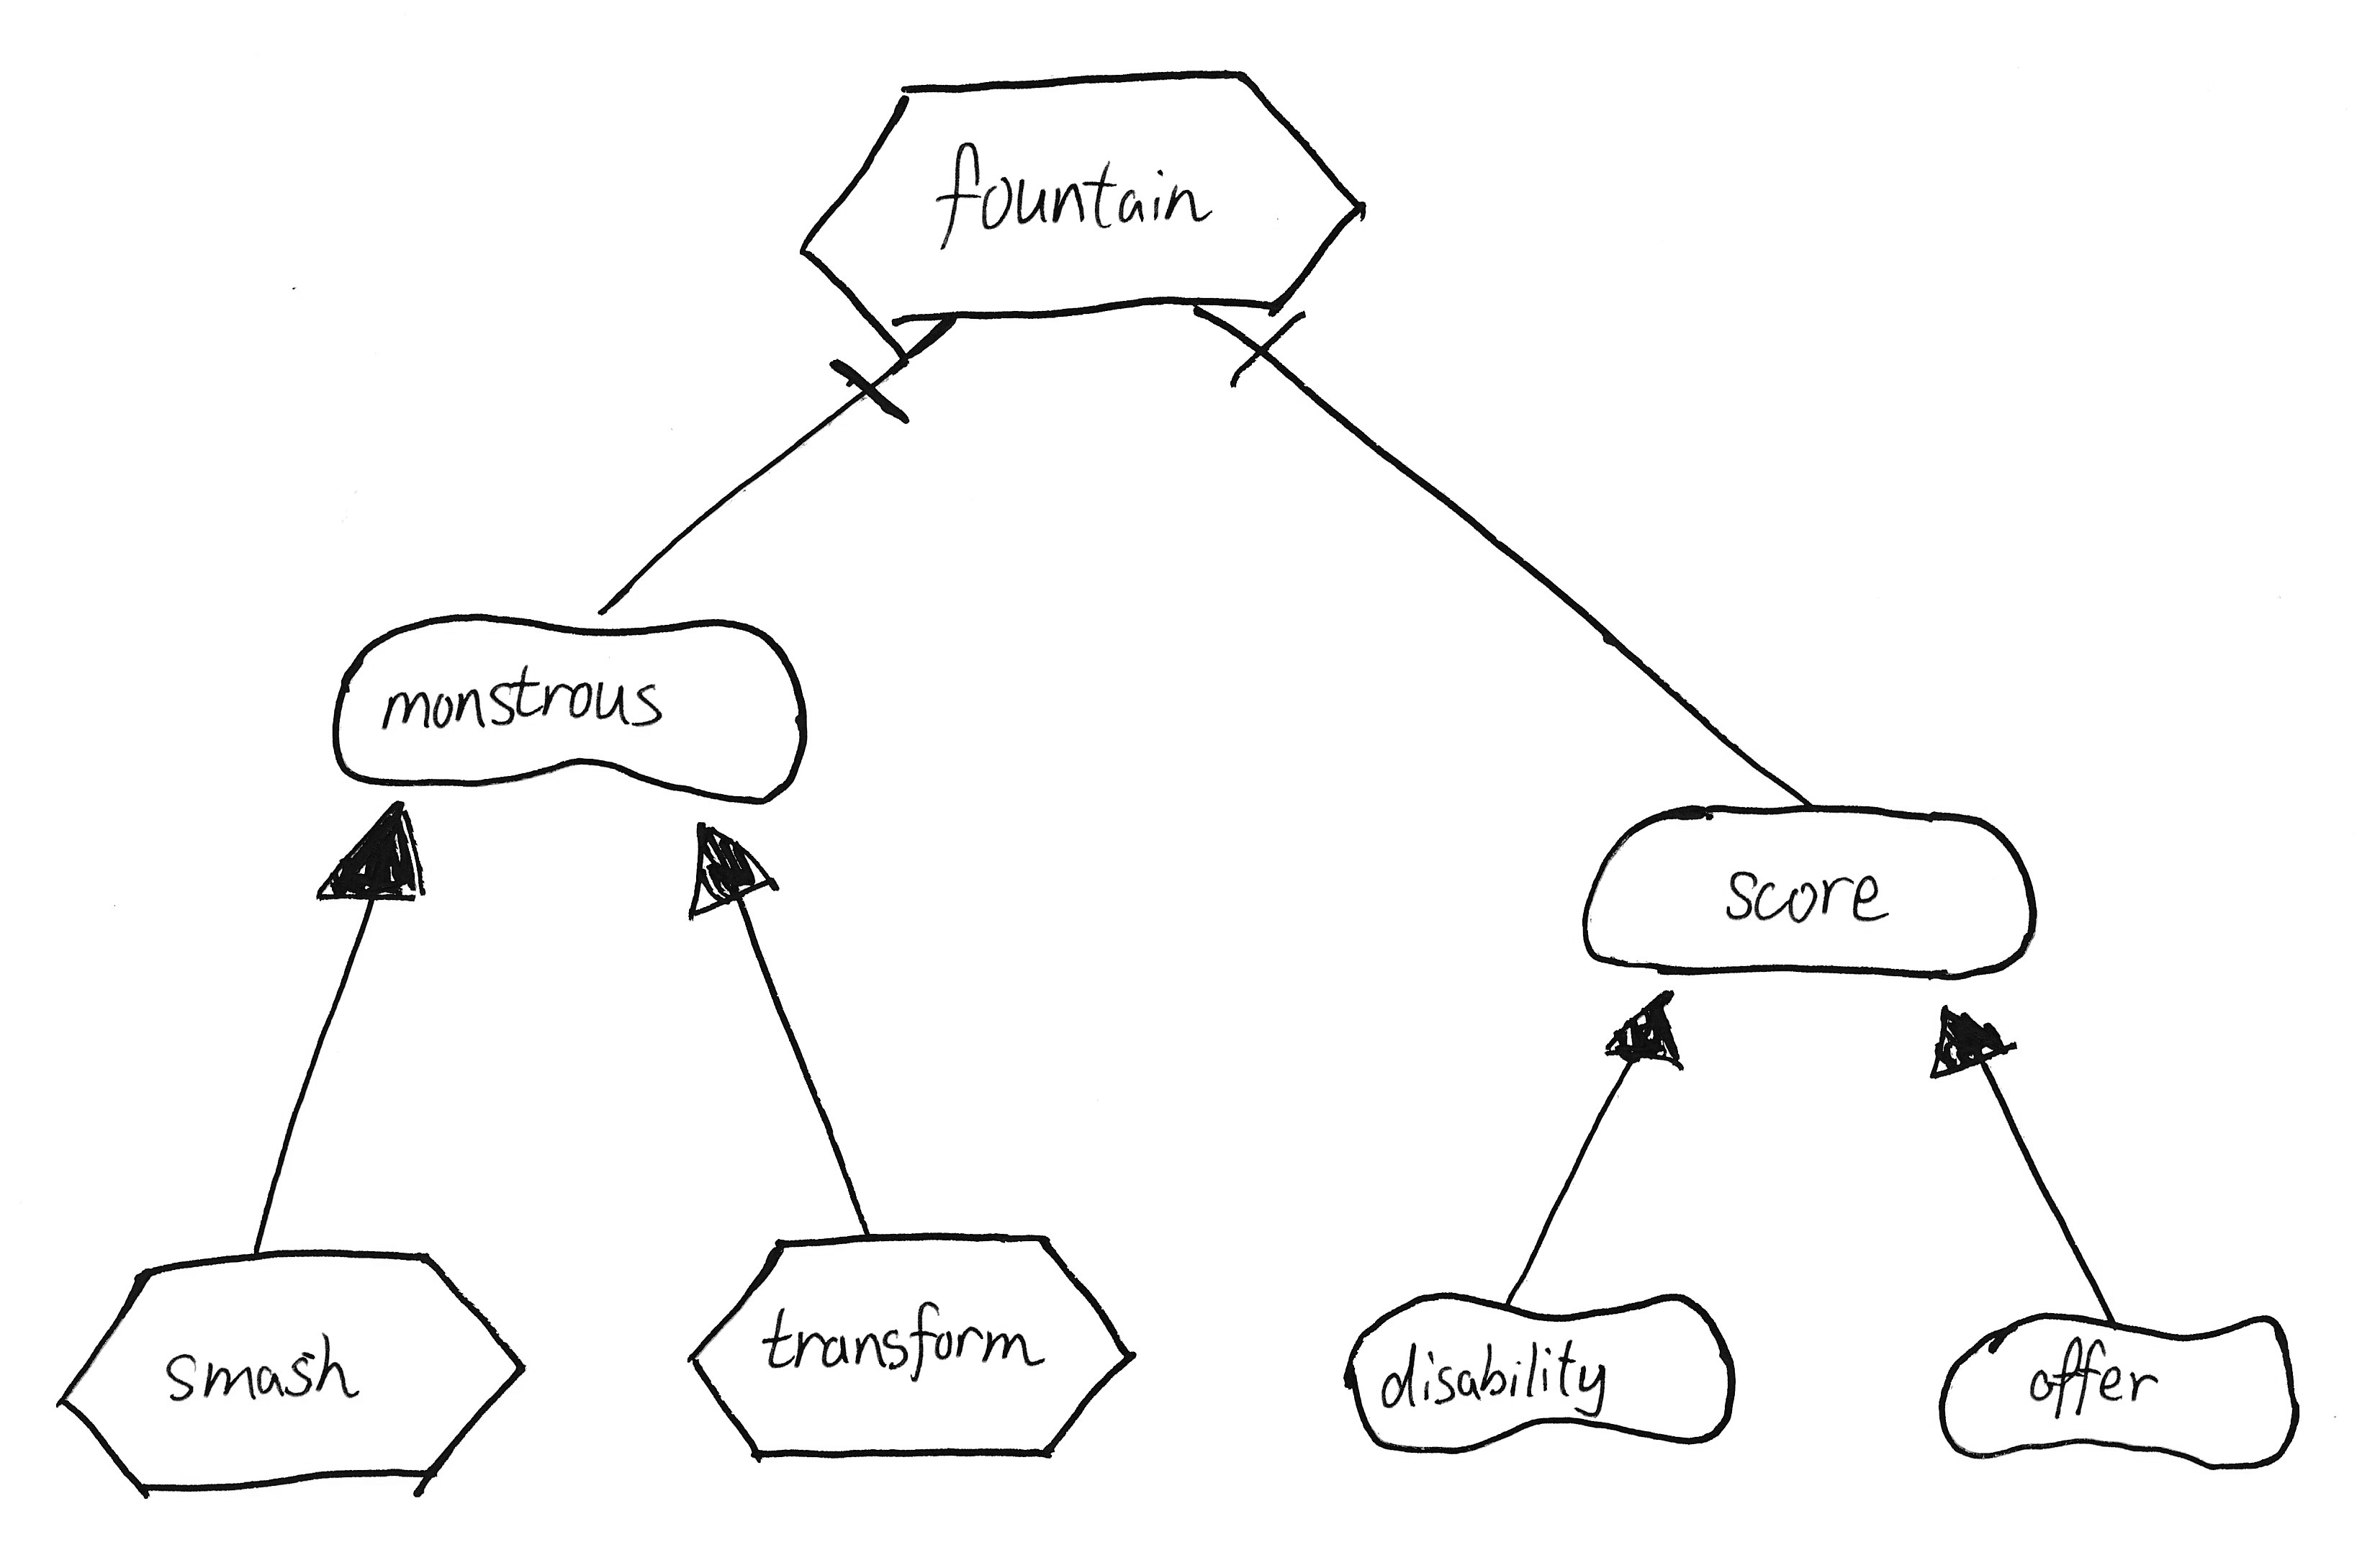and: (805, 345, 919, 465), (1216, 307, 1346, 401)
goal: (1568, 784, 2071, 1001)
or: (300, 793, 470, 922), (654, 814, 810, 937), (1898, 991, 2040, 1092), (1577, 975, 1698, 1081)
quality: (312, 590, 827, 819), (1336, 1276, 1749, 1468), (1926, 1293, 2311, 1487)
task: (775, 49, 1388, 359), (40, 1227, 538, 1513), (668, 1217, 1162, 1482)
